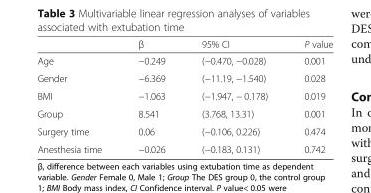table: (36, 36, 332, 154)
table column: (182, 36, 285, 154), (36, 36, 119, 154), (119, 36, 182, 154), (285, 36, 332, 154)
table column header: (36, 36, 332, 51)
table row: (36, 68, 332, 86), (36, 86, 332, 104), (36, 104, 332, 122), (36, 51, 332, 68), (36, 122, 332, 139), (36, 36, 332, 51), (36, 139, 332, 154)
